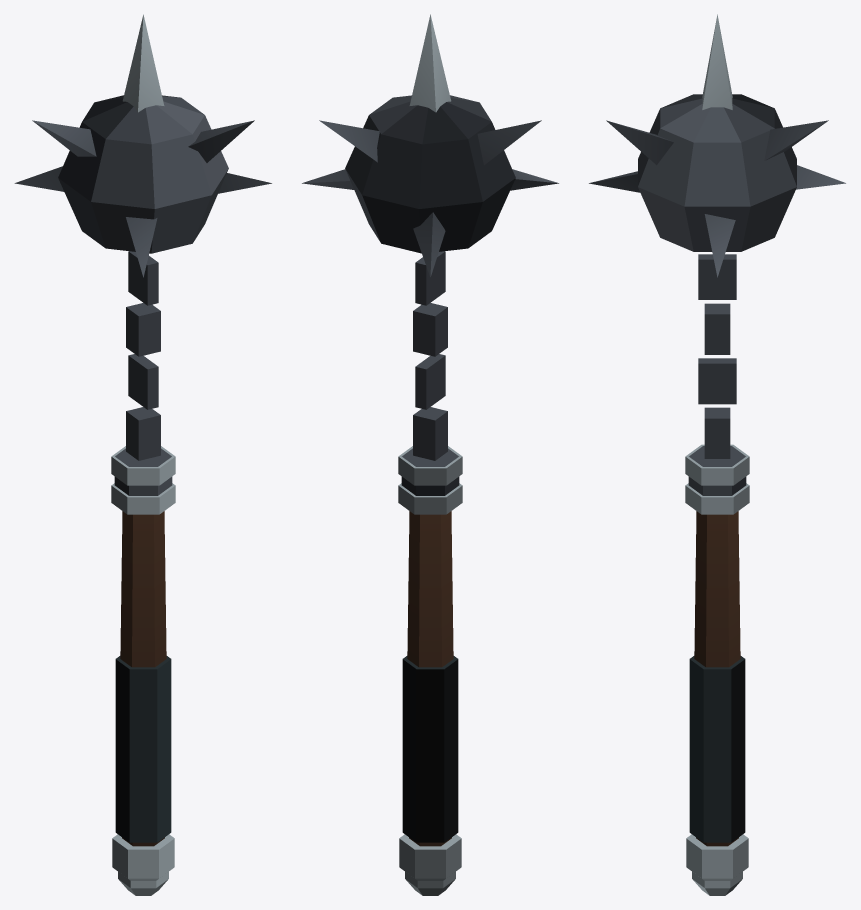
The model's file is knight_flail_1.gltf.
3 renders of one model, left to right at view 1: azimuth 30°, elevation 25°; view 2: azimuth 150°, elevation 25°; view 3: azimuth 270°, elevation 25°, orthographic.
Visible parts, largest first — view 1: knight_flail_1; view 2: knight_flail_1; view 3: knight_flail_1.
Boxes of the visible parts, x1,y1,x2,y2 form: knight_flail_1: (14,14,271,895); knight_flail_1: (302,14,558,895); knight_flail_1: (589,14,845,895).
Bounding box in the file's own units: 0.4363 × 1.51 × 0.4054.
Materials: 1 (1 with a texture image).
